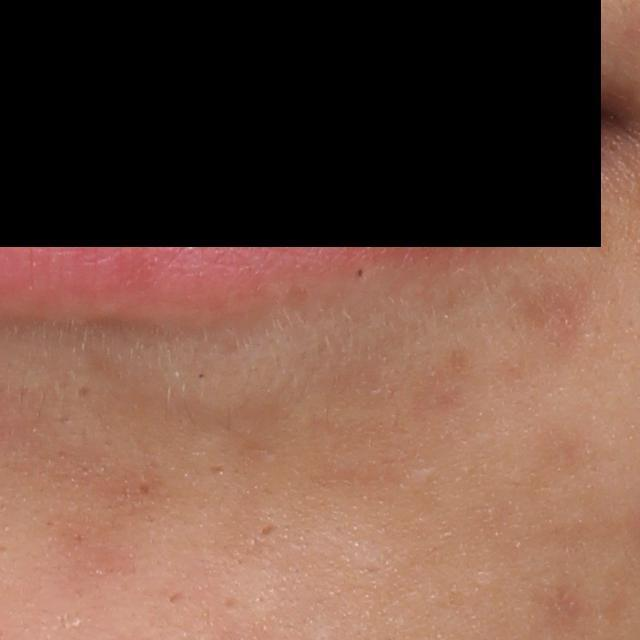atrophic_scar: (257, 521, 281, 542), (73, 384, 89, 402), (136, 482, 154, 497), (209, 465, 226, 476)
